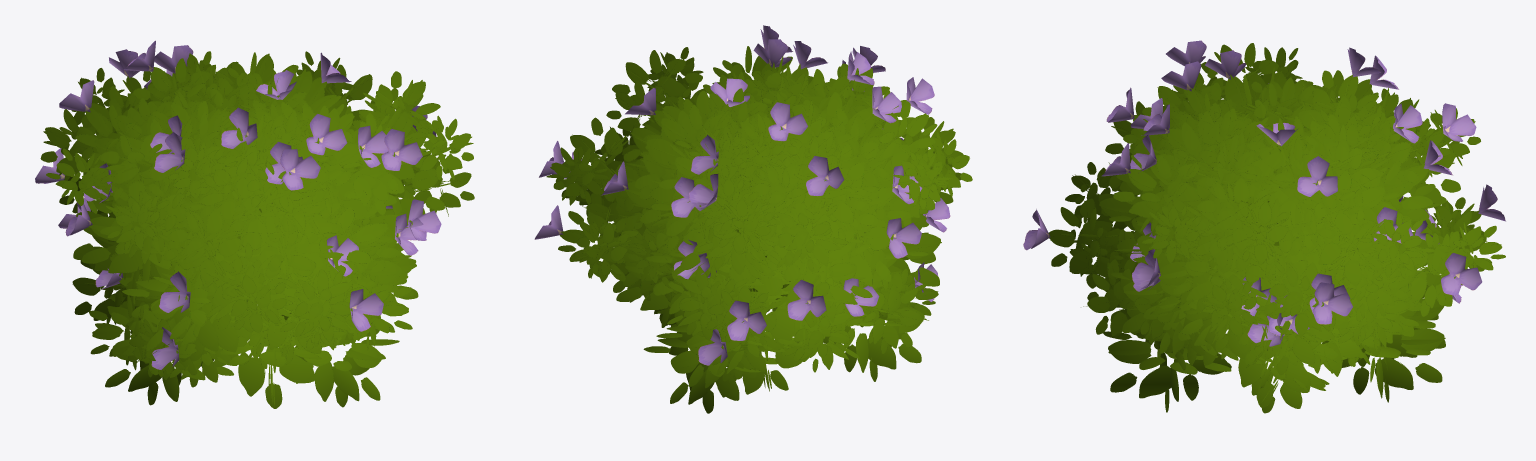
File: Bush_Common_Flowers.glb
3 views of the same model, side by side, from view 1: azimuth 30°, elevation 25°; view 2: azimuth 150°, elevation 25°; view 3: azimuth 270°, elevation 25° (orthographic). The views are drawn at different scales.
Parts seen in each view (by area): view 1: Bush_Common_Flowers; view 2: Bush_Common_Flowers; view 3: Bush_Common_Flowers.
Boxes of the visible parts, left/top/right/bottom form: Bush_Common_Flowers: left=35, top=40, right=474, bottom=408; Bush_Common_Flowers: left=534, top=25, right=972, bottom=413; Bush_Common_Flowers: left=1023, top=40, right=1505, bottom=413.
Bounding box in the file's own units: 1.91 × 1.58 × 1.97.
Materials: 2 (2 with a texture image).
